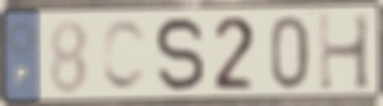0: (268, 13, 312, 92)
2: (212, 14, 258, 94)
8: (46, 16, 93, 97)
C: (99, 17, 150, 94)
H: (315, 9, 374, 94)
S: (153, 14, 208, 96)
